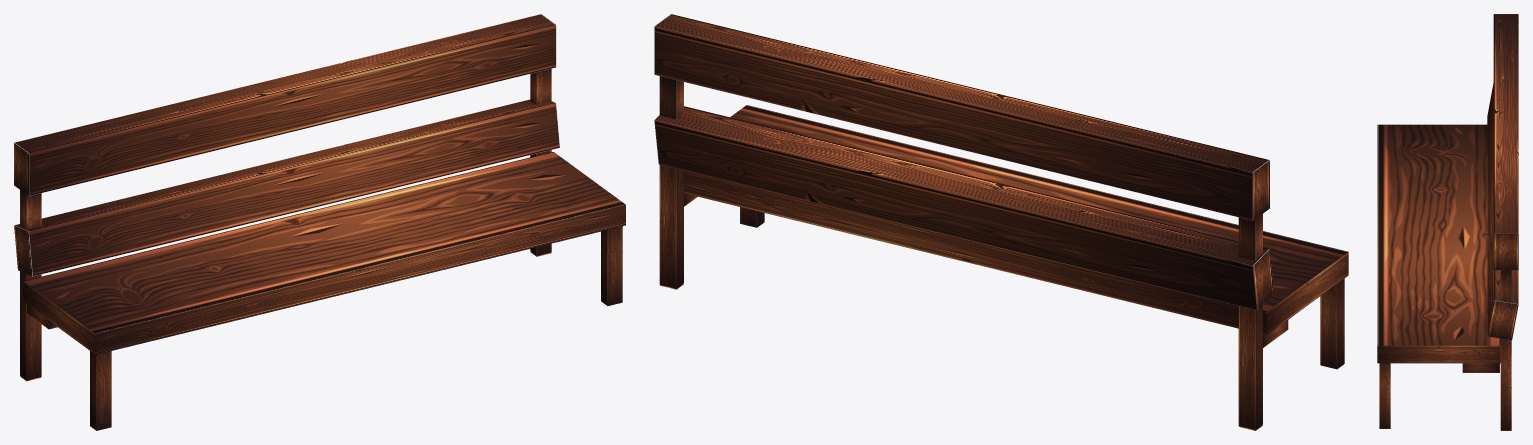
The model's file is Long-chair.fbx.
3 views of the same model, side by side, from view 1: azimuth 30°, elevation 25°; view 2: azimuth 150°, elevation 25°; view 3: azimuth 270°, elevation 25° (orthographic). The views are drawn at different scales.
Parts seen in each view (by area): view 1: pCube22; view 2: pCube22; view 3: pCube22.
Boxes of the visible parts, x1,y1,x2,y2 form: pCube22: [14, 14, 625, 430]; pCube22: [654, 14, 1348, 430]; pCube22: [1377, 14, 1518, 430].
Bounding box in the file's own units: 5.35 × 2.23 × 1.45.
